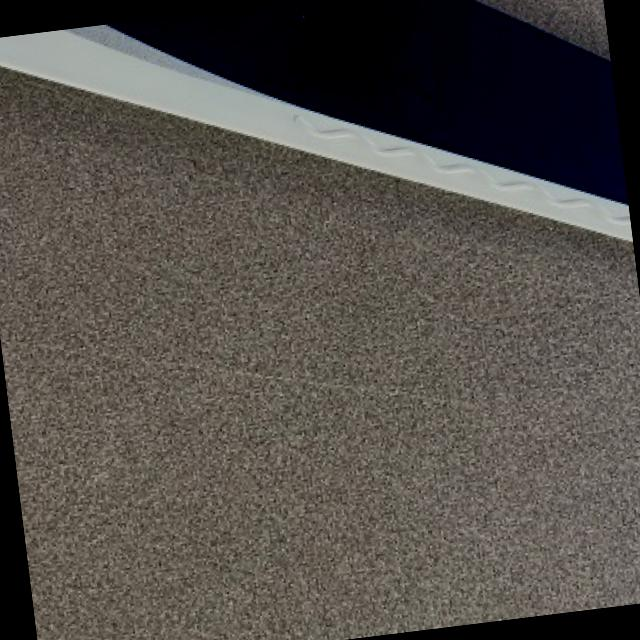healthy: (0, 66, 640, 640)
